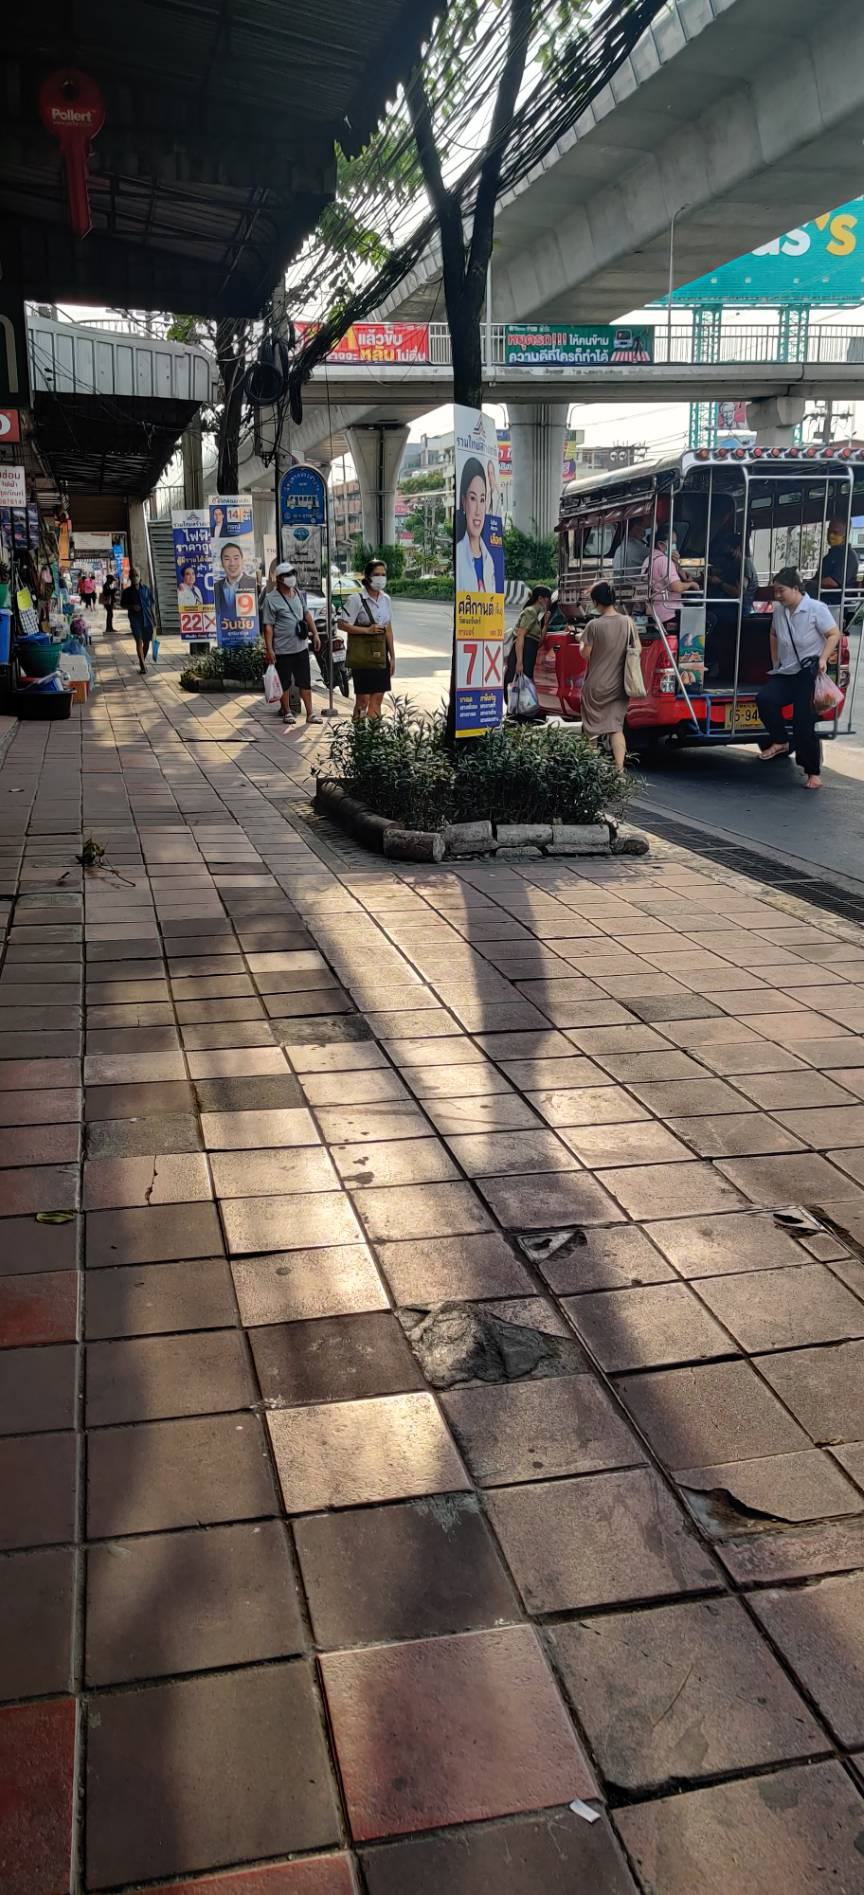Banner: (452, 396, 523, 764)
